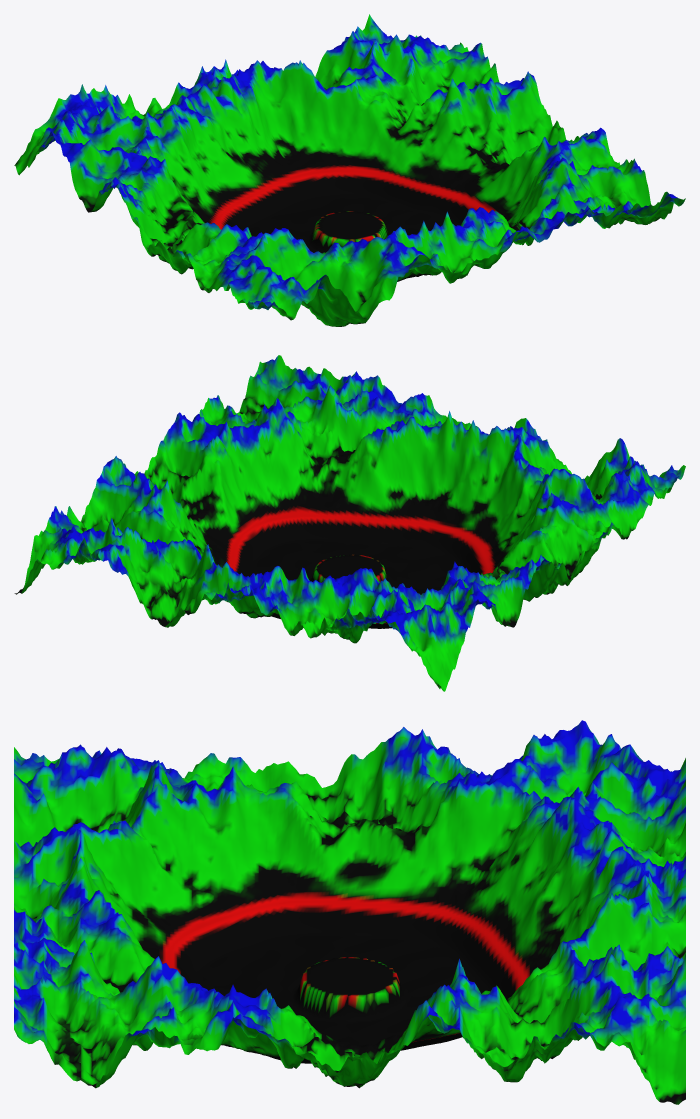
Rendered from LakeTerrain_Low.fbx.
3 views of the same model, one above another, from view 1: azimuth 30°, elevation 25°; view 2: azimuth 150°, elevation 25°; view 3: azimuth 270°, elevation 25° (orthographic). The views are drawn at different scales.
Visible parts, largest first — view 1: Terrain_Low; view 2: Terrain_Low; view 3: Terrain_Low.
Part boxes in pixels (<box>): Terrain_Low: <box>14,14,685,326</box>; Terrain_Low: <box>14,355,685,691</box>; Terrain_Low: <box>14,720,685,1104</box>.
Size of the model in its own units: 400 by 92.53 by 400.
